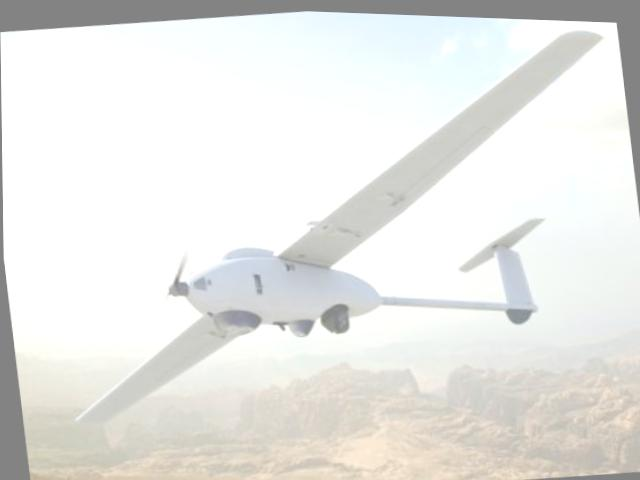uav: (22, 1, 640, 452)
